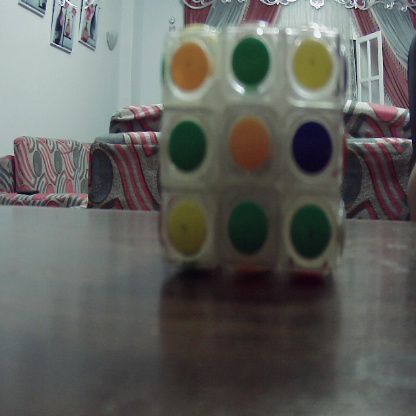Rubix Cube: (161, 25, 349, 278)
